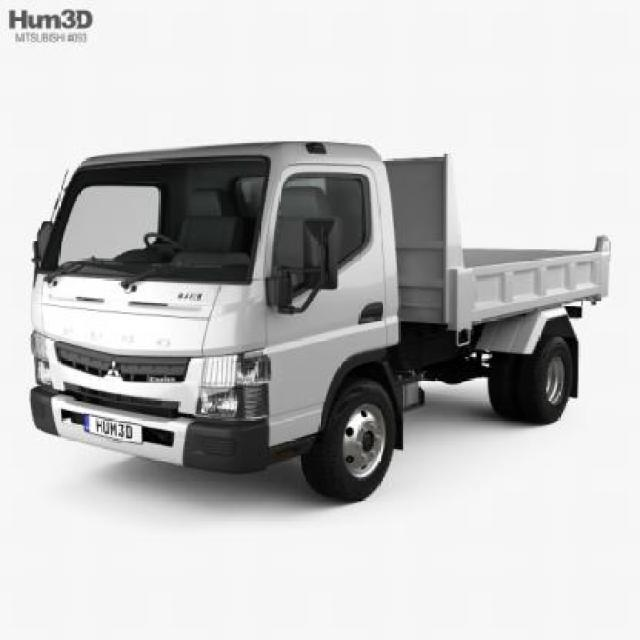truck: (34, 141, 611, 504)
